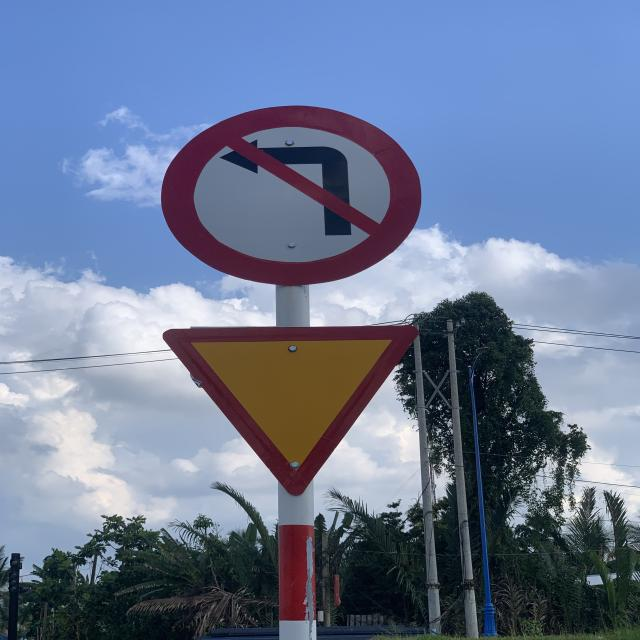Cam_Re_Trai: (159, 103, 426, 284)
Gioi_Han_Toc_Do_25: (159, 324, 423, 497)
